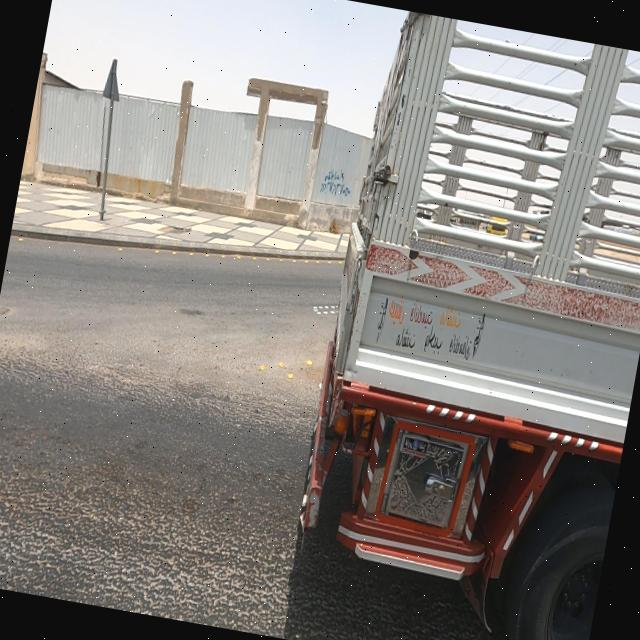Graffiti: (320, 167, 355, 200)
